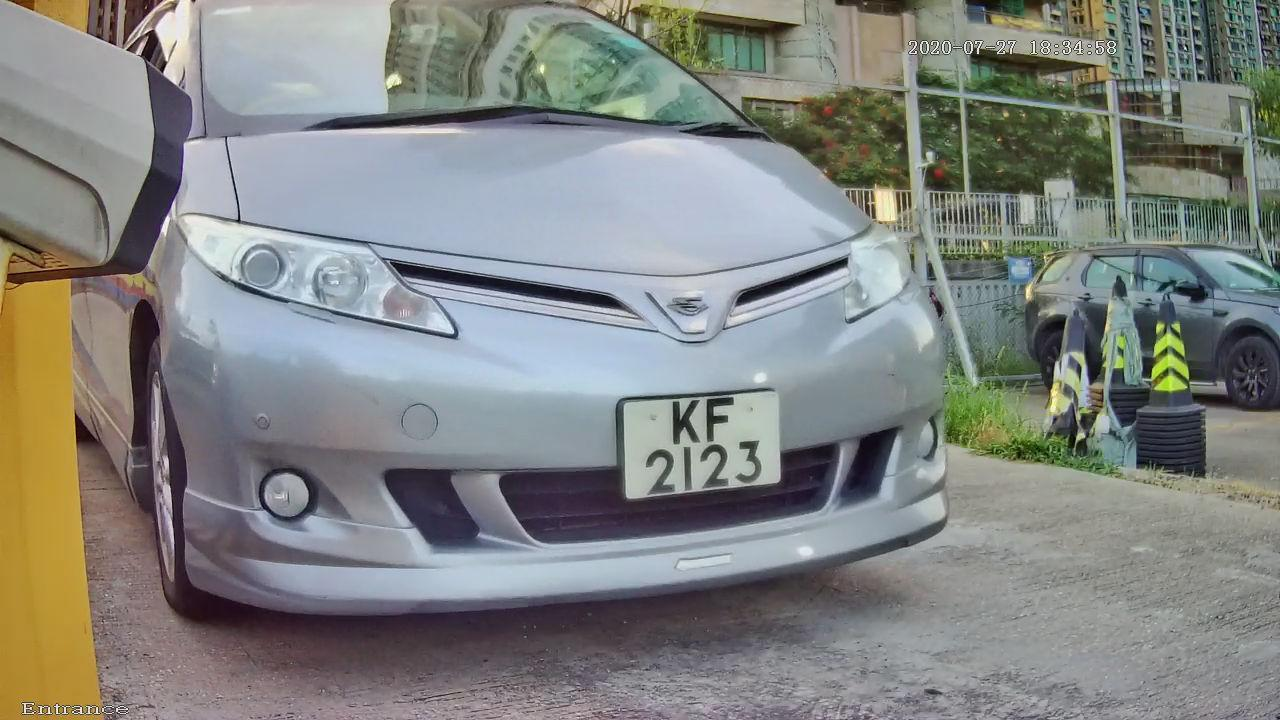privatecar: (75, 13, 1052, 647)
